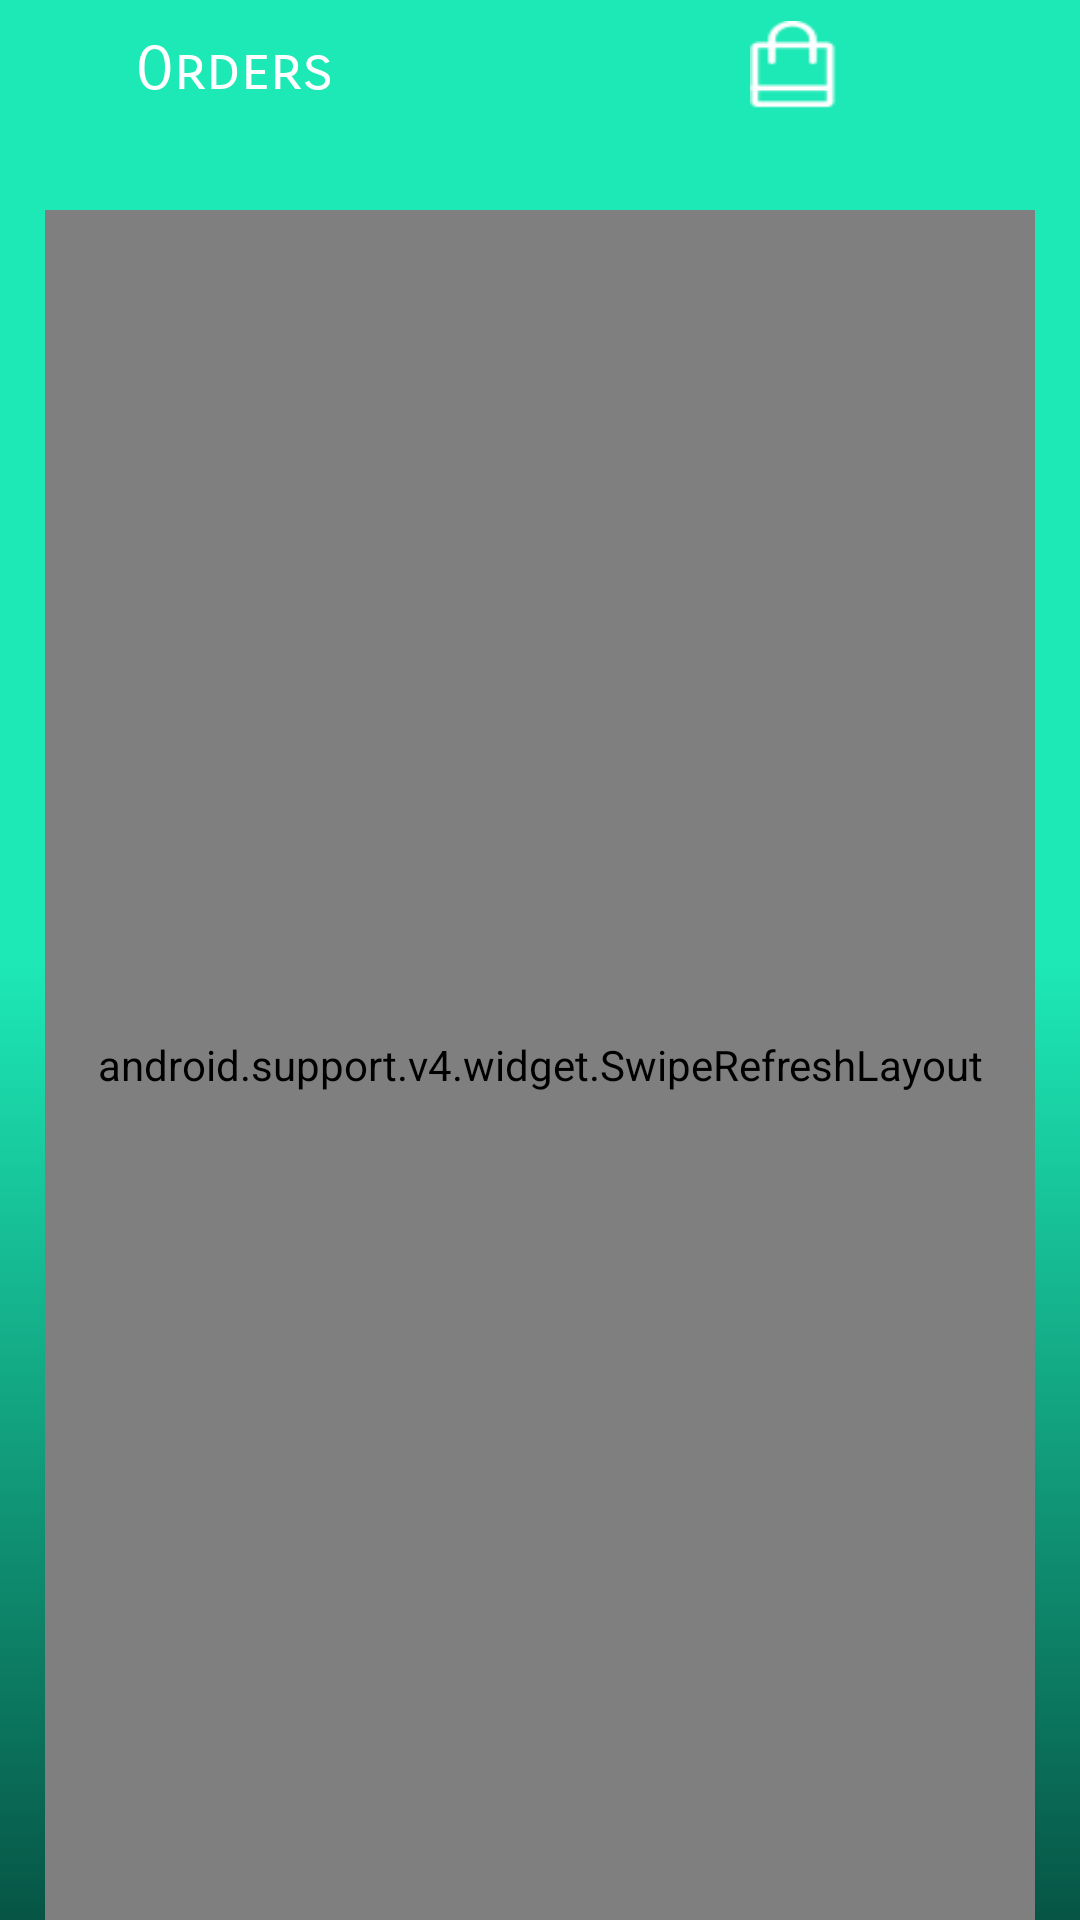

Icons on this 1080×1920 Android screen, each with the point to tap as (x,y):
storeicon: (793,64)
